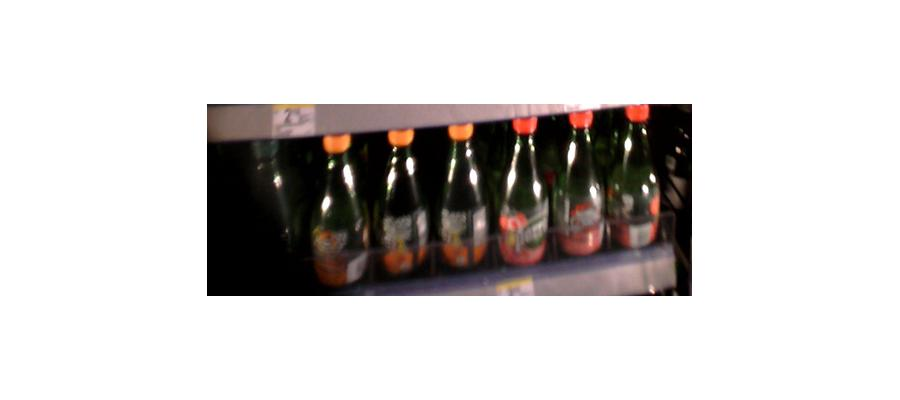bottle: (433, 122, 490, 276), (311, 131, 368, 285), (606, 105, 662, 255), (497, 117, 550, 270), (553, 108, 606, 260), (375, 125, 427, 278)
